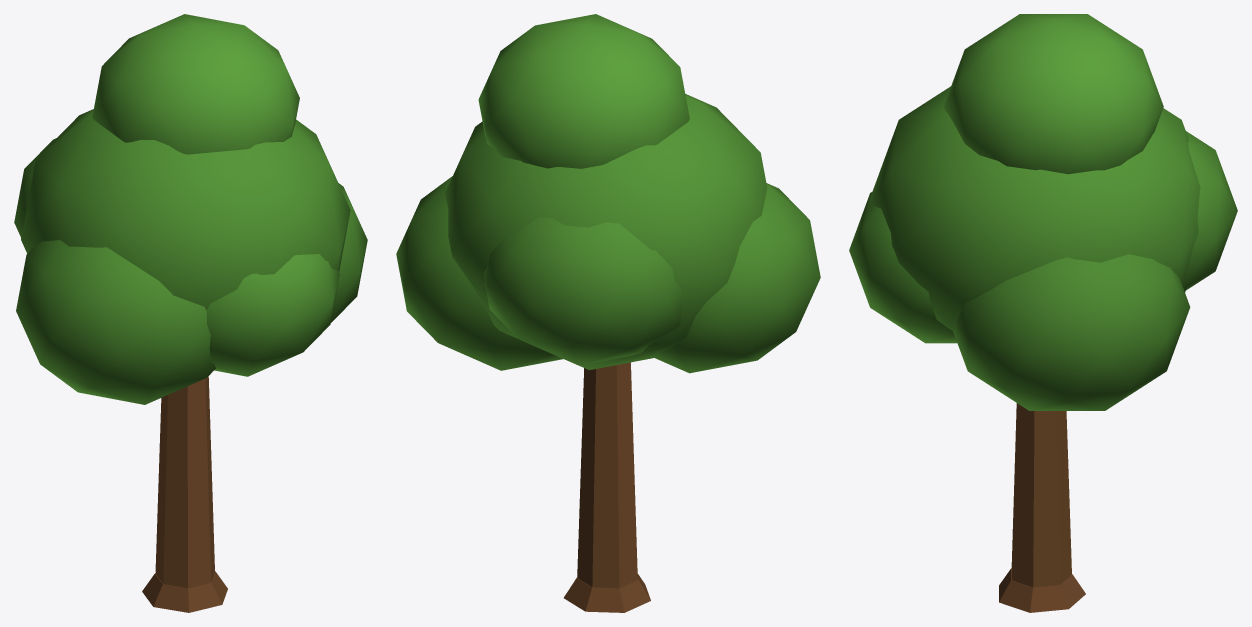
The model's file is p_tree_leaf_1.glb.
3 views of the same model, side by side, from view 1: azimuth 30°, elevation 25°; view 2: azimuth 150°, elevation 25°; view 3: azimuth 270°, elevation 25° (orthographic). The views are drawn at different scales.
Visible parts, largest first — view 1: body; view 2: body; view 3: body.
Part boxes in pixels (x1,y1,x2,y2): body: (14, 14, 367, 612); body: (396, 14, 820, 612); body: (849, 14, 1237, 612).
Size of the model in its own units: 3.08 by 4.75 by 2.88.
